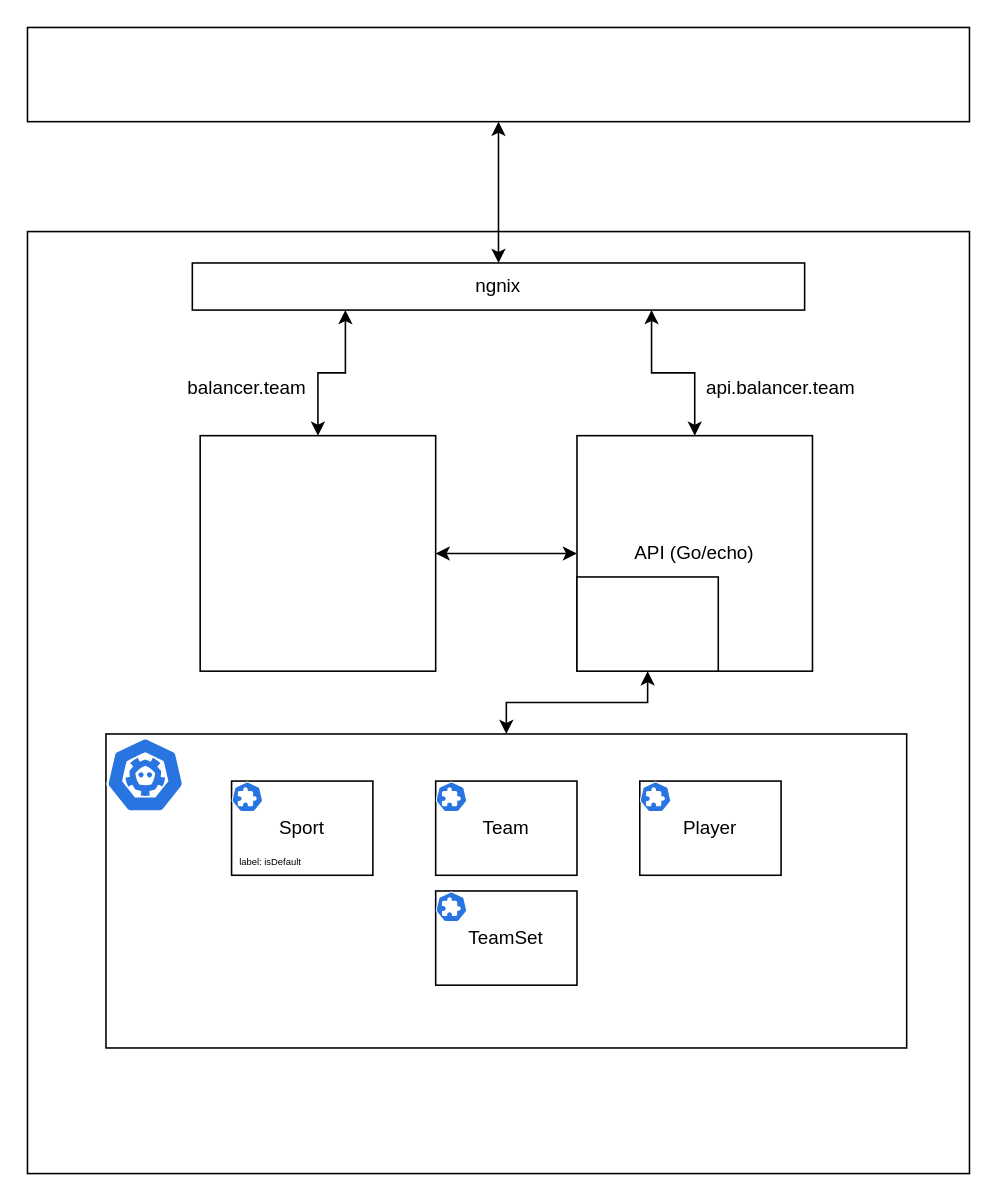
The diagram is 997 pixels wide and 1201 high, and some of its shapes have lost their labels. Here are the shapes that lost their labels. From the top down, the centre of each, then its label:
At pixel 497 74: "DO LoadBalancer".
At pixel 317 552: "UI (next-js)".
At pixel 646 623: "k8s API client (kubebuilder)".
